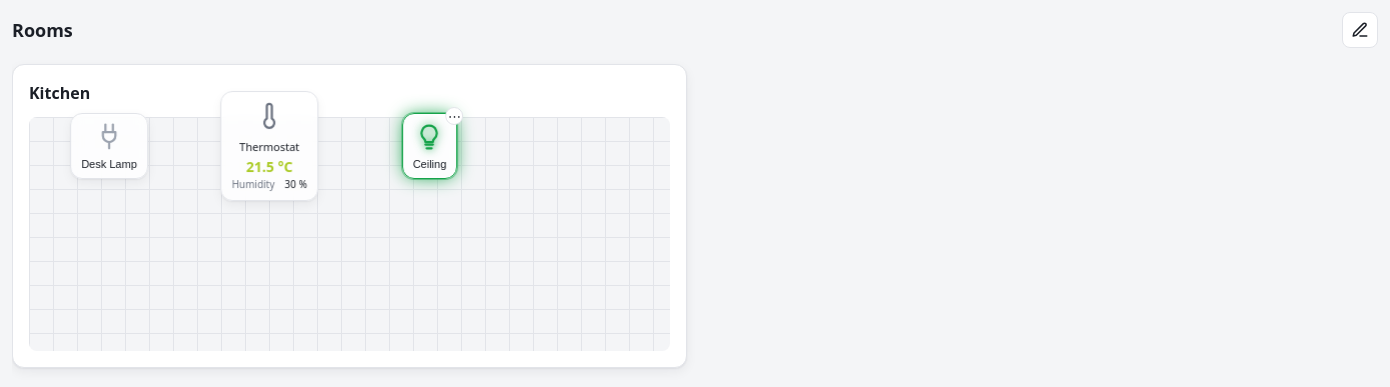
RoomsFloorPlan › opens the brightness control from a dimmable lamp icon
The width and height of the screenshot is (1390, 387).
Step 1. Click the button named "Controls for Ceiling" → point(454, 116), box x1=445 y1=107 x2=463 y2=125
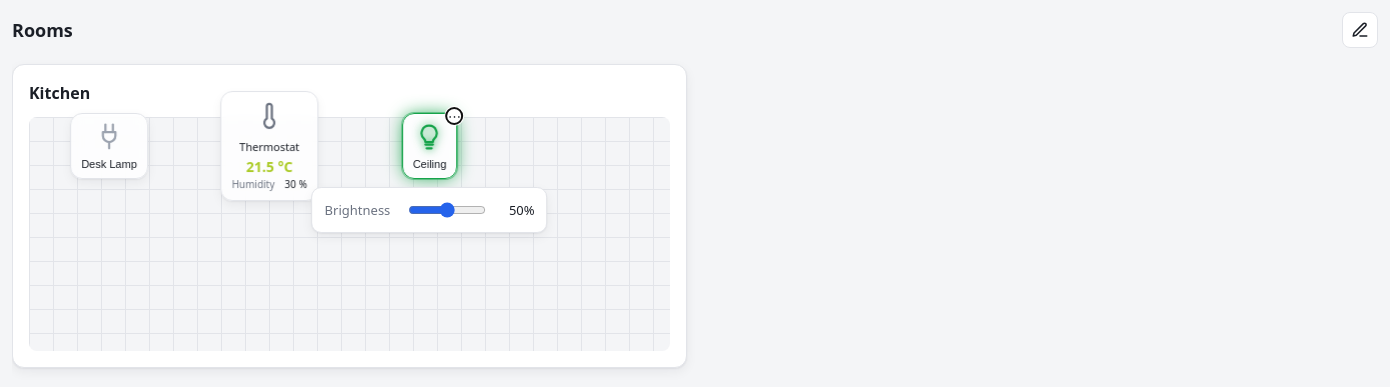
Now the slider named "Brightness for Ceiling" is shown, box x1=409 y1=202 x2=487 y2=218
